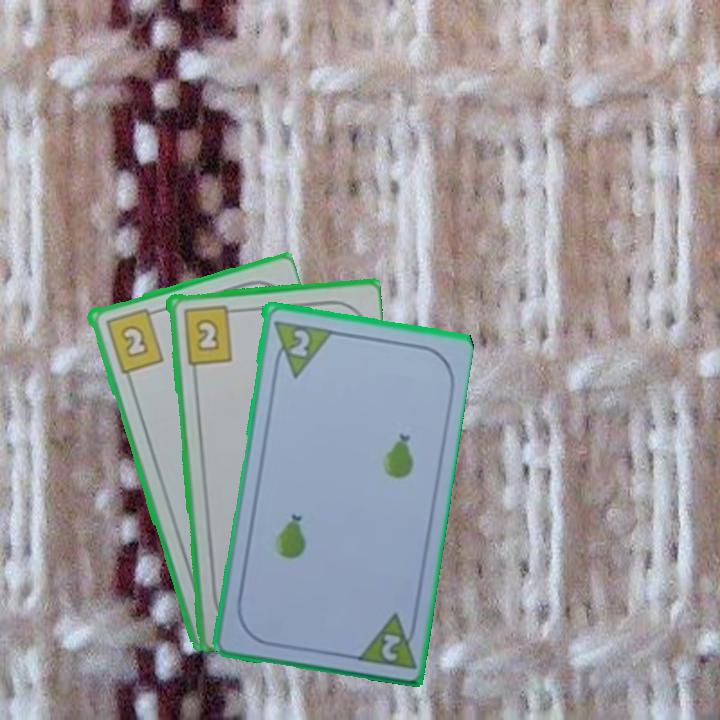2b: (101, 304, 166, 376), (179, 302, 240, 366)
2p: (269, 316, 333, 380), (377, 629, 403, 664)
